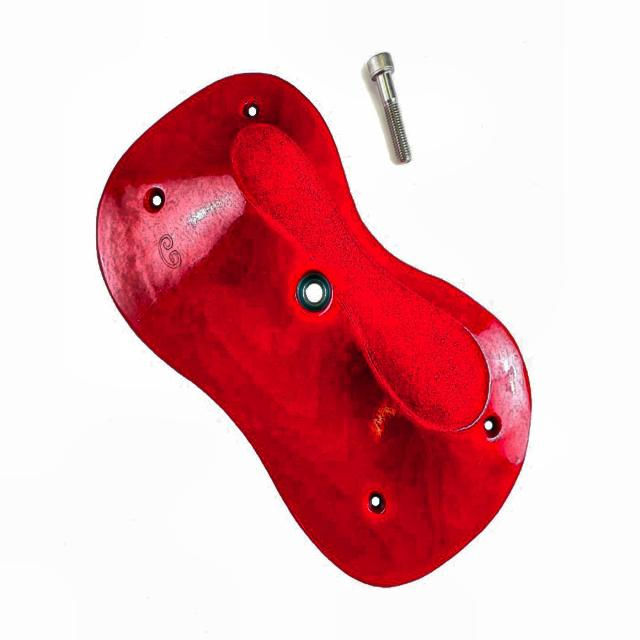Hold: (93, 70, 530, 590)
